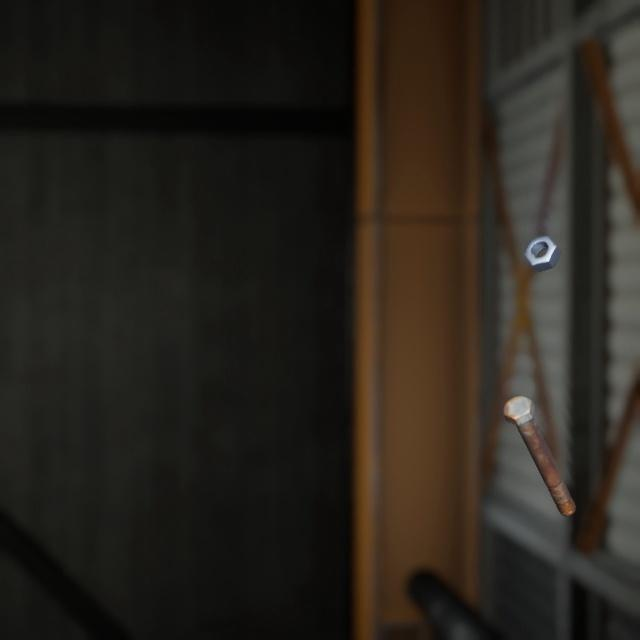bolt: (499, 369, 580, 501), (59, 613, 93, 640)
nut: (518, 214, 565, 259)
